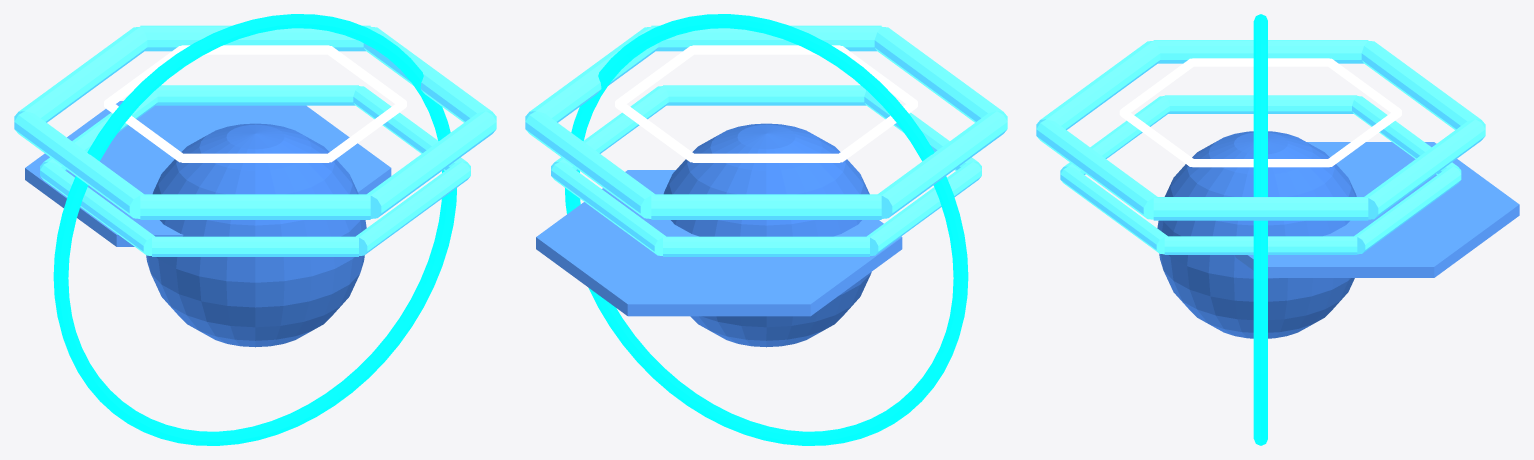
Rendered from shield_node.glb.
3 views of the same model, side by side, from view 1: azimuth 30°, elevation 25°; view 2: azimuth 150°, elevation 25°; view 3: azimuth 270°, elevation 25° (orthographic). The views are drawn at different scales.
Visible parts, largest first — view 1: ShieldNodeDarkCore, ShieldNodeCyanAnnulus, ShieldNodeForwardHexPlate, Shield_NodeReadabilityHexRoute3, ShieldNodeBlueWard3, ShieldNodeBlueWard0, Shield_NodeReadabilityHexRoute4, Shield_NodeReadabilityHexRoute2, Shield_NodeReadabilityHexRoute1, Shield_NodeReadabilityHexRoute0, ShieldNodeBlueWard4, Shield_NodeReadabilityHexRoute5 (+9 smaller); view 2: ShieldNodeForwardHexPlate, ShieldNodeCyanAnnulus, ShieldNodeDarkCore, Shield_NodeReadabilityHexRoute1, ShieldNodeBlueWard1, ShieldNodeBlueWard4, Shield_NodeReadabilityHexRoute0, Shield_NodeReadabilityHexRoute2, Shield_NodeReadabilityHexRoute3, Shield_NodeReadabilityHexRoute4, ShieldNodeBlueWard0, Shield_NodeReadabilityHexRoute5 (+9 smaller); view 3: ShieldNodeDarkCore, ShieldNodeForwardHexPlate, ShieldNodeCyanAnnulus, Shield_NodeReadabilityHexRoute5, Shield_NodeReadabilityHexRoute2, Shield_NodeReadabilityHexRoute0, Shield_NodeReadabilityHexRoute4, ShieldNodeBlueWard5, ShieldNodeBlueWard2, Shield_NodeReadabilityHexRoute1, Shield_NodeReadabilityHexRoute3, ShieldNodeBlueWard4 (+9 smaller).
Boxes of the visible parts, x1,y1,x2,y2 form: ShieldNodeDarkCore: [146, 123, 366, 347]; ShieldNodeCyanAnnulus: [53, 14, 456, 445]; ShieldNodeForwardHexPlate: [25, 101, 391, 246]; Shield_NodeReadabilityHexRoute3: [140, 194, 370, 219]; ShieldNodeBlueWard3: [152, 236, 358, 256]; ShieldNodeBlueWard0: [155, 85, 358, 105]; Shield_NodeReadabilityHexRoute4: [366, 111, 496, 218]; Shield_NodeReadabilityHexRoute2: [14, 111, 144, 218]; Shield_NodeReadabilityHexRoute1: [14, 27, 147, 122]; Shield_NodeReadabilityHexRoute0: [140, 25, 370, 51]; ShieldNodeBlueWard4: [356, 161, 470, 255]; Shield_NodeReadabilityHexRoute5: [363, 27, 496, 122]; ShieldNodeForwardHexPlate: [536, 170, 902, 316]; ShieldNodeCyanAnnulus: [565, 14, 968, 445]; ShieldNodeDarkCore: [663, 123, 871, 347]; Shield_NodeReadabilityHexRoute1: [651, 194, 881, 219]; ShieldNodeBlueWard1: [663, 236, 869, 256]; ShieldNodeBlueWard4: [663, 85, 866, 105]; Shield_NodeReadabilityHexRoute0: [525, 111, 655, 218]; Shield_NodeReadabilityHexRoute2: [877, 111, 1007, 218]; Shield_NodeReadabilityHexRoute3: [874, 27, 1007, 122]; Shield_NodeReadabilityHexRoute4: [651, 25, 881, 51]; ShieldNodeBlueWard0: [551, 161, 665, 255]; Shield_NodeReadabilityHexRoute5: [525, 27, 658, 122]; ShieldNodeDarkCore: [1157, 131, 1356, 338]; ShieldNodeForwardHexPlate: [1235, 142, 1519, 277]; ShieldNodeCyanAnnulus: [1253, 14, 1267, 445]; Shield_NodeReadabilityHexRoute5: [1153, 197, 1368, 220]; Shield_NodeReadabilityHexRoute2: [1153, 40, 1368, 63]; Shield_NodeReadabilityHexRoute0: [1364, 119, 1485, 219]; Shield_NodeReadabilityHexRoute4: [1036, 119, 1157, 219]; ShieldNodeBlueWard5: [1164, 236, 1357, 254]; ShieldNodeBlueWard2: [1164, 95, 1357, 113]; Shield_NodeReadabilityHexRoute1: [1361, 41, 1485, 129]; Shield_NodeReadabilityHexRoute3: [1036, 41, 1160, 129]; ShieldNodeBlueWard4: [1060, 166, 1167, 254].
Bounding box in the file's own units: 1.76 × 1.76 × 1.97.
